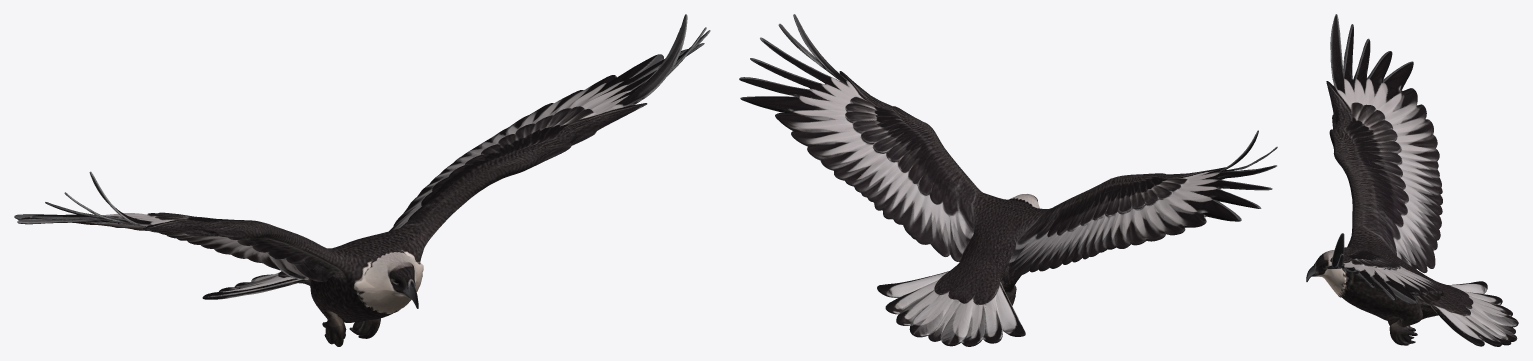
Rendered from model-01a1d5c9-eda6-738d-a100-36e7ba6dc7b7.glb.
3 renders of one model, left to right at view 1: azimuth 30°, elevation 25°; view 2: azimuth 150°, elevation 25°; view 3: azimuth 270°, elevation 25°, orthographic. The views are drawn at different scales.
Visible parts, largest first — view 1: Mesh_0; view 2: Mesh_0; view 3: Mesh_0.
Boxes of the visible parts, x1,y1,x2,y2 form: Mesh_0: [14, 14, 710, 346]; Mesh_0: [739, 14, 1277, 346]; Mesh_0: [1306, 14, 1518, 346].
Bounding box in the file's own units: 1.9 × 0.7646 × 0.6708.
Materials: 1 (1 with a texture image).
